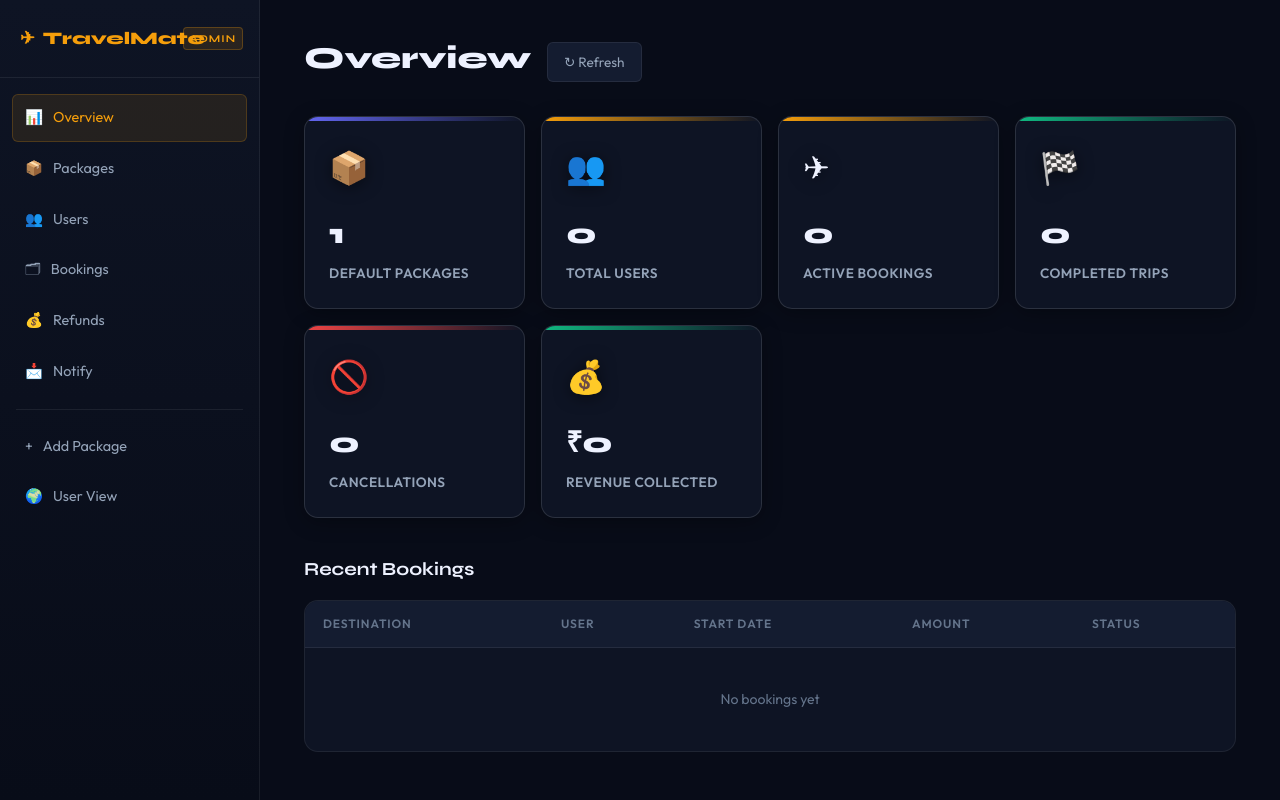
Test case: AdminDashboard Component › loads and displays a package name
This screenshot has width=1280, height=800.
What coordinates should you click on to do the following:
click the text "Packages"
I would click on:
 (84, 169)
Its box is [53,157,114,181].
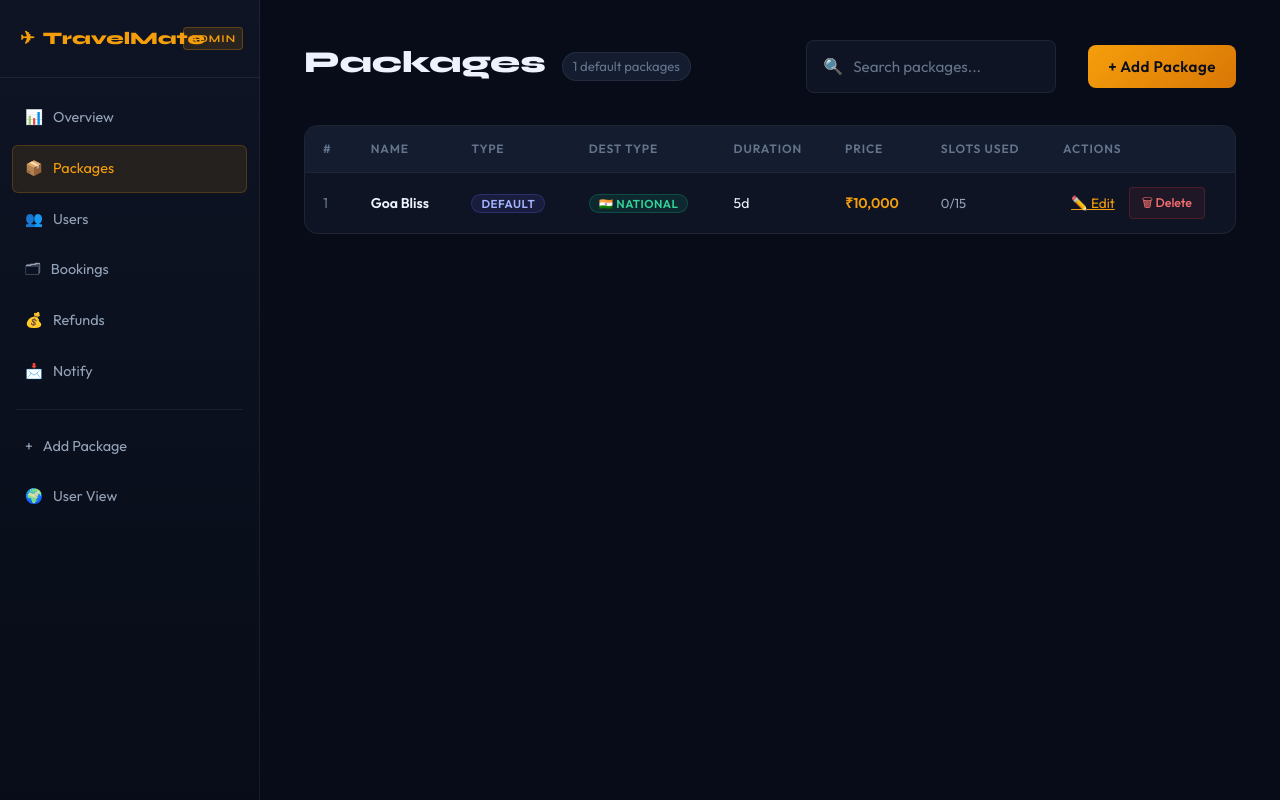
Result: the text "Goa Bliss" is shown at [353,172,453,233]
